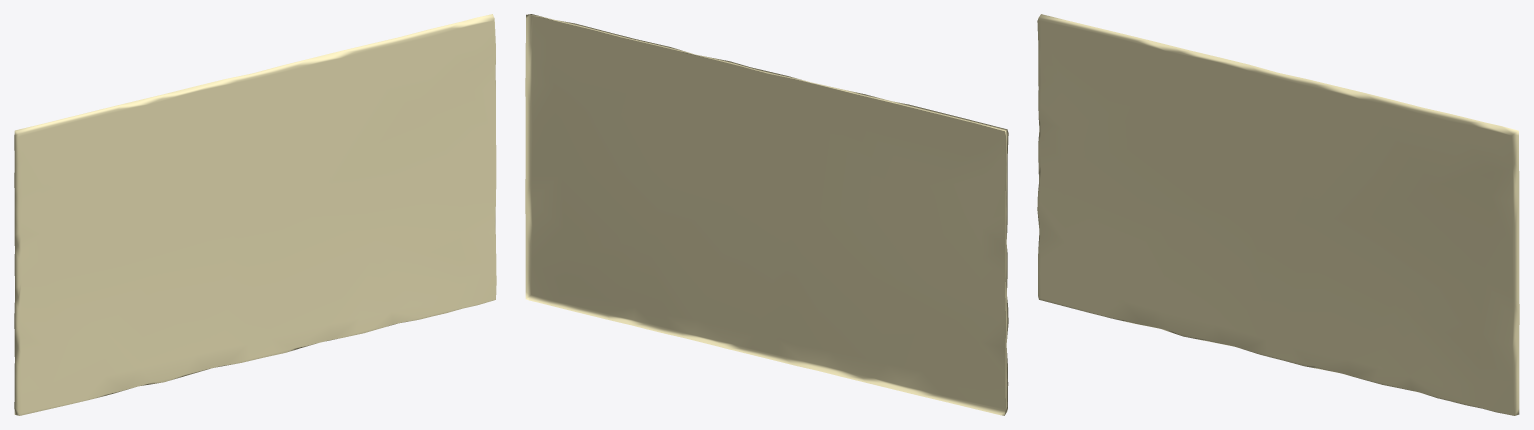
3 renders of one model, left to right at view 1: azimuth 30°, elevation 25°; view 2: azimuth 150°, elevation 25°; view 3: azimuth 330°, elevation 25°, orthographic.
Visible parts, largest first — view 1: Cube; view 2: Cube; view 3: Cube.
Boxes of the visible parts, x1,y1,x2,y2 form: Cube: (14,14,496,415); Cube: (525,14,1008,415); Cube: (1037,14,1519,415).
Size of the model in its own units: 2.05 by 1.17 by 0.0305.
